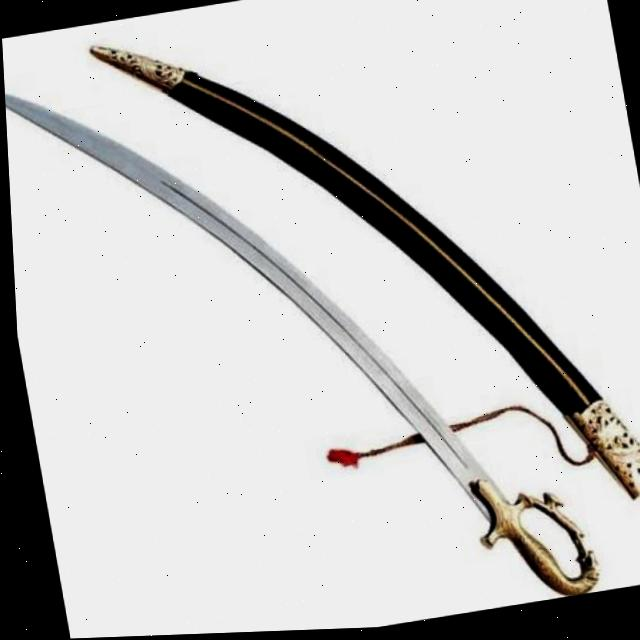knife: (1, 0, 601, 640)
